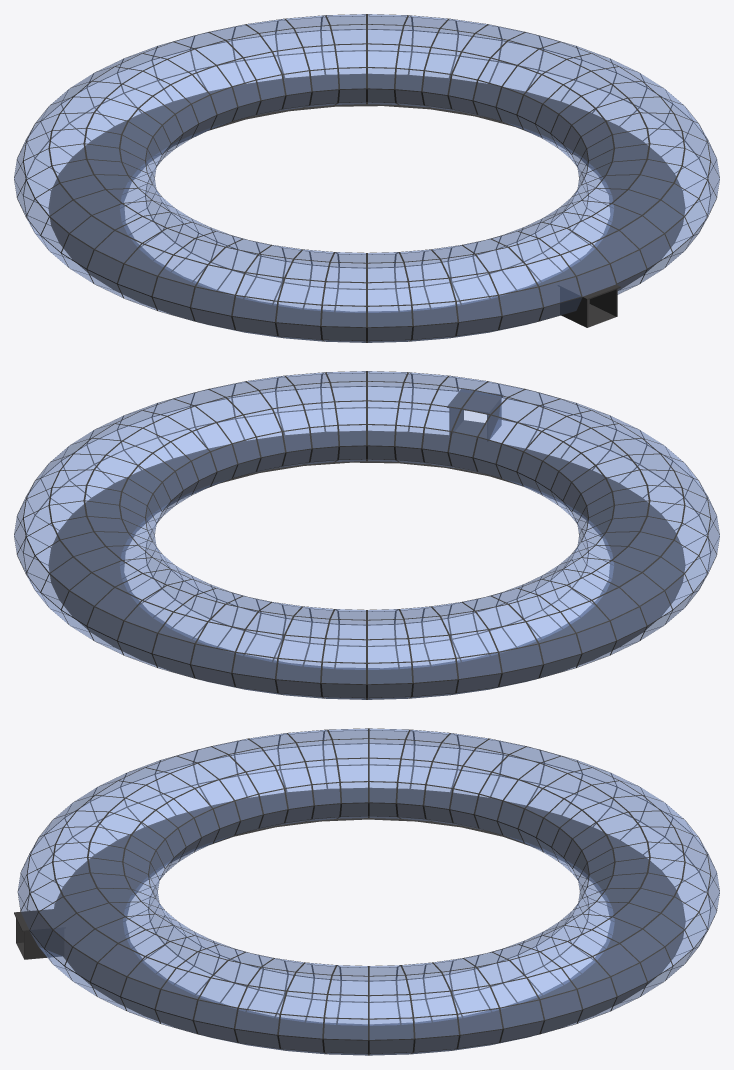
The model's file is storeBuilding_withEntrance.gltf.
The picture shows the model from 3 angles, top to bottom: view 1: azimuth 30°, elevation 25°; view 2: azimuth 150°, elevation 25°; view 3: azimuth 270°, elevation 25°; orthographic projection.
Visible parts, largest first — view 1: Torus, Plane.001, Cube.003; view 2: Torus, Plane.001; view 3: Torus, Cube.002, Plane.001.
Boxes of the visible parts, x1,y1,x2,y2 form: Torus: (14,14,719,342); Plane.001: (557,272,620,299); Cube.003: (560,287,588,327); Torus: (14,371,719,699); Plane.001: (447,389,503,413); Torus: (17,728,719,1055); Cube.002: (24,928,64,959); Plane.001: (14,909,65,931).
Size of the model in its own units: 188 by 19.09 by 189.
